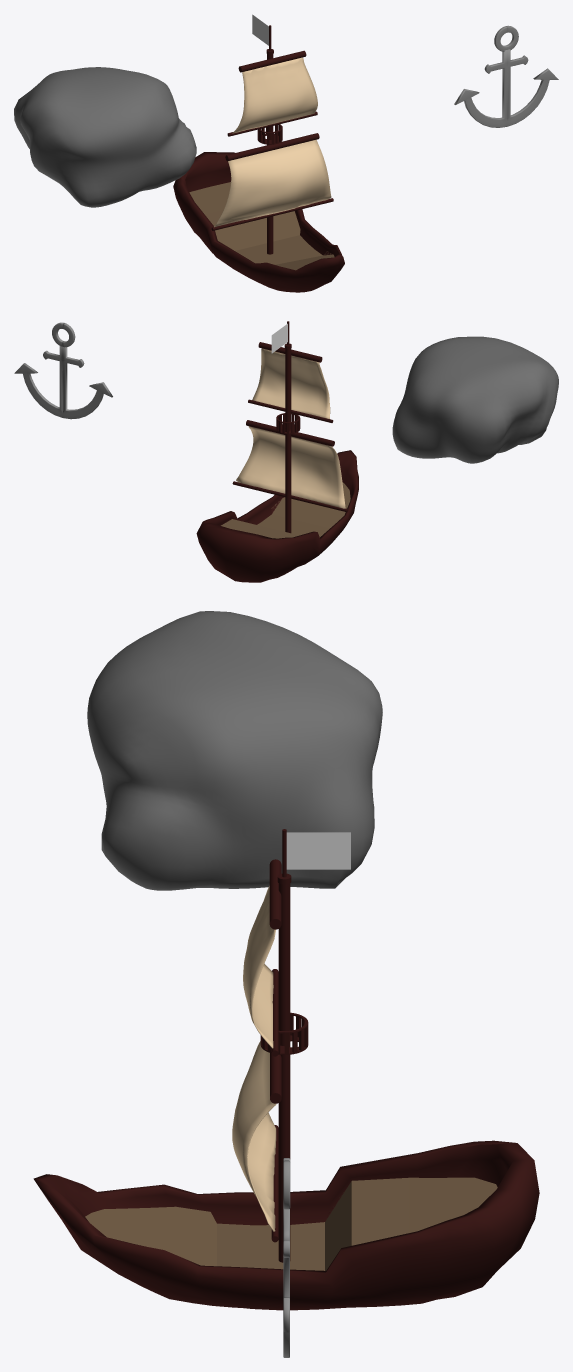
The model's file is Boat.gltf.
3 views of the same model, one above another, from view 1: azimuth 30°, elevation 25°; view 2: azimuth 150°, elevation 25°; view 3: azimuth 270°, elevation 25° (orthographic). The views are drawn at different scales.
Parts seen in each view (by area): view 1: Cube, Boat Hull, Plane.001, Plane.002, Circle.001, Cylinder.004, Cylinder.001, Cylinder.006, Cylinder.002, Cylinder; view 2: Cube, Boat Hull, Plane.001, Plane.002, Circle.001, Cylinder, Cylinder.004, Cylinder.006, Cylinder.002, Cylinder.001; view 3: Cube, Boat Hull, Plane.001, Cylinder, Plane.002, Plane, Circle.001, Cylinder.002.
Part boxes in pixels (<box>): Cube: <box>14,67,196,207</box>; Boat Hull: <box>173,152,344,292</box>; Plane.001: <box>214,139,331,227</box>; Plane.002: <box>232,57,317,133</box>; Circle.001: <box>454,25,558,127</box>; Cylinder.004: <box>225,133,319,161</box>; Cylinder.001: <box>238,50,306,72</box>; Cylinder.006: <box>211,198,333,230</box>; Cylinder.002: <box>257,124,282,144</box>; Cylinder: <box>267,54,273,254</box>; Cube: <box>392,336,558,463</box>; Boat Hull: <box>196,450,358,582</box>; Plane.001: <box>236,426,345,508</box>; Plane.002: <box>252,348,330,418</box>; Circle.001: <box>14,322,112,419</box>; Cylinder: <box>285,348,291,533</box>; Cylinder.004: <box>246,420,334,446</box>; Cylinder.006: <box>232,481,348,512</box>; Cylinder.002: <box>276,413,300,434</box>; Cylinder.001: <box>258,342,322,362</box>; Cube: <box>87,611,382,890</box>; Boat Hull: <box>33,1140,539,1310</box>; Plane.001: <box>232,1041,276,1231</box>; Cylinder: <box>278,883,290,1262</box>; Plane.002: <box>243,886,275,1048</box>; Plane: <box>286,832,350,869</box>; Circle.001: <box>283,1158,290,1357</box>; Cylinder.002: <box>260,1012,308,1054</box>.
Size of the model in its own units: 12.64 by 5.49 by 5.35.
